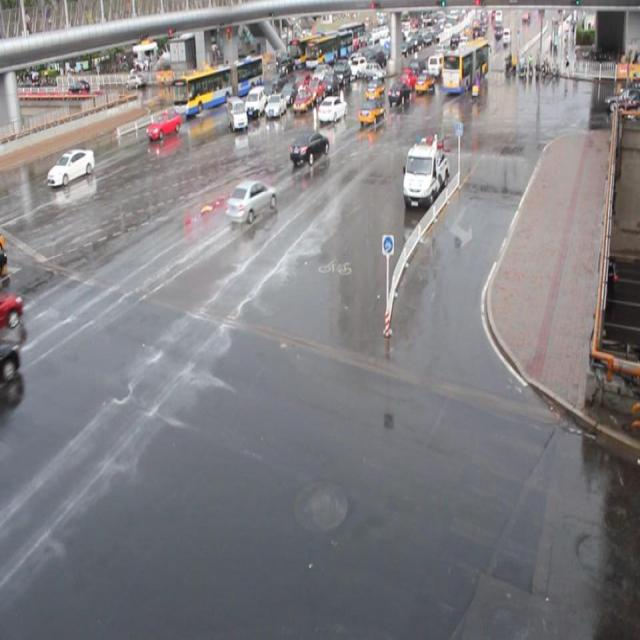bus: (402, 139, 449, 207)
car: (225, 180, 277, 222), (47, 149, 95, 186), (289, 129, 329, 164), (1, 332, 21, 390), (1, 289, 23, 337), (146, 111, 181, 138), (317, 95, 347, 123), (357, 97, 385, 125), (387, 80, 410, 106), (292, 89, 313, 115), (266, 93, 287, 118), (363, 76, 385, 99), (264, 76, 286, 99), (304, 78, 324, 103), (279, 81, 299, 104), (291, 73, 311, 95), (267, 72, 289, 92)
truck: (226, 96, 247, 132), (245, 86, 268, 118)
van: (172, 55, 264, 116)
